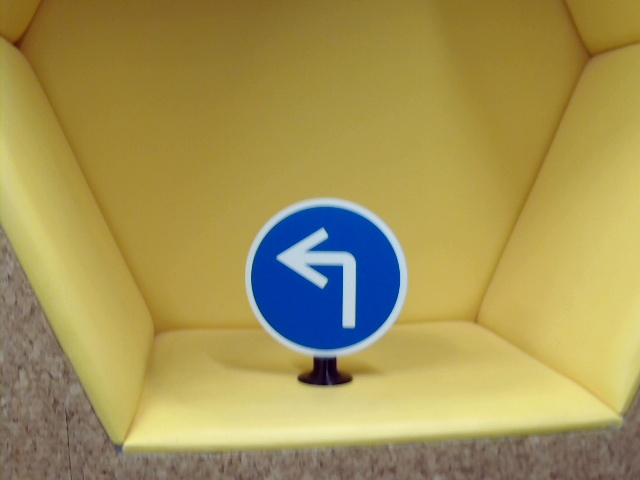turn_left: (274, 224, 366, 328)
